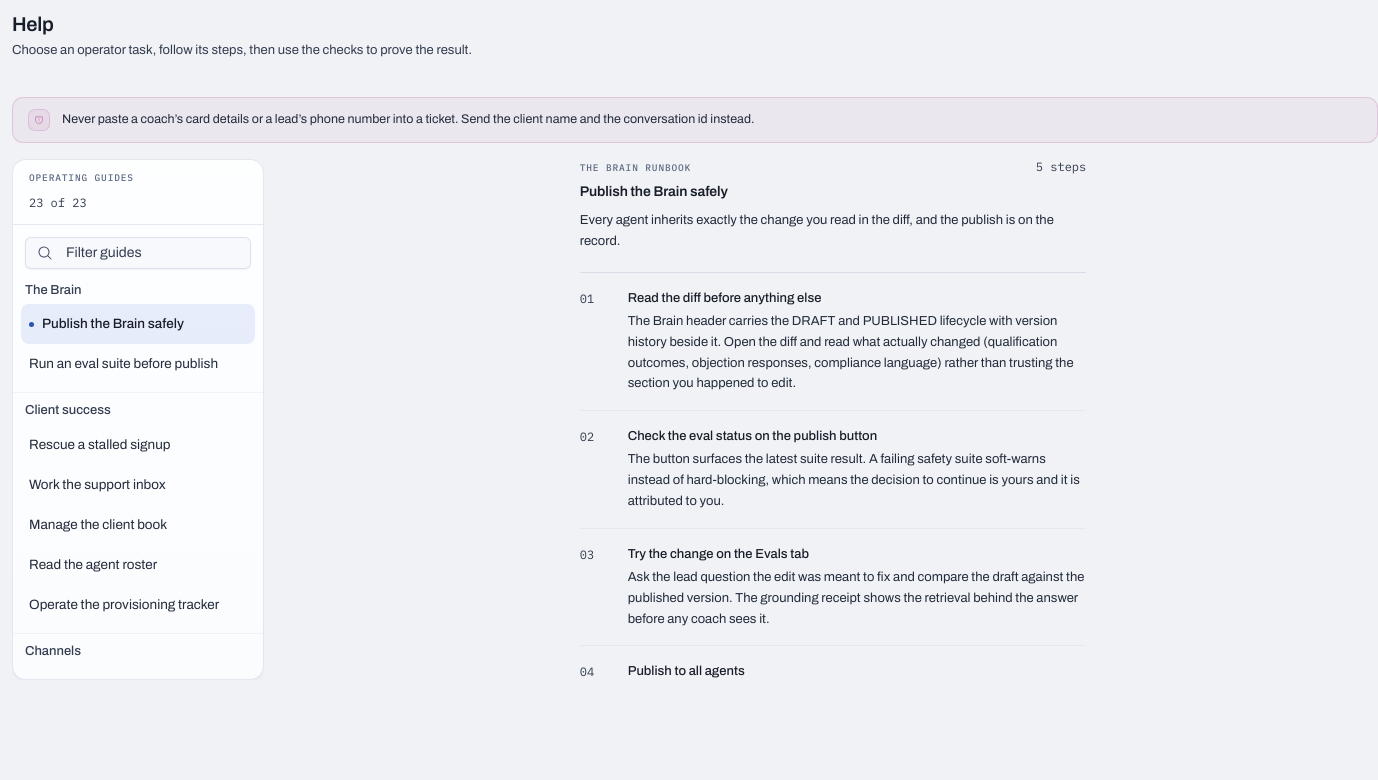
Scenario: AdminHelp › filters runbooks by operator task and keeps the reading pane aligned
In the search field named "Search operating guides": [138, 253] box [25,237,251,269], type "carrier"
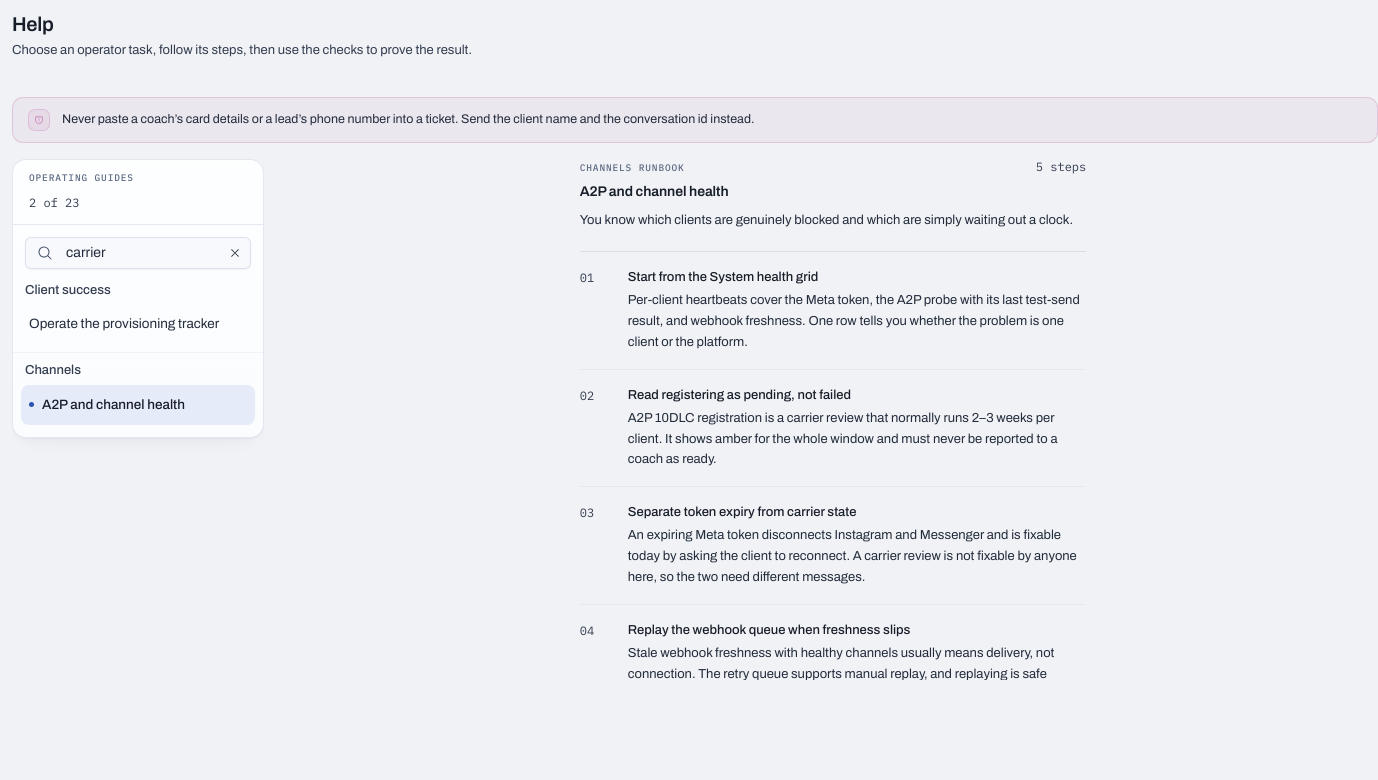
Expected: the heading "A2P and channel health" is shown, [580,184,728,199]
